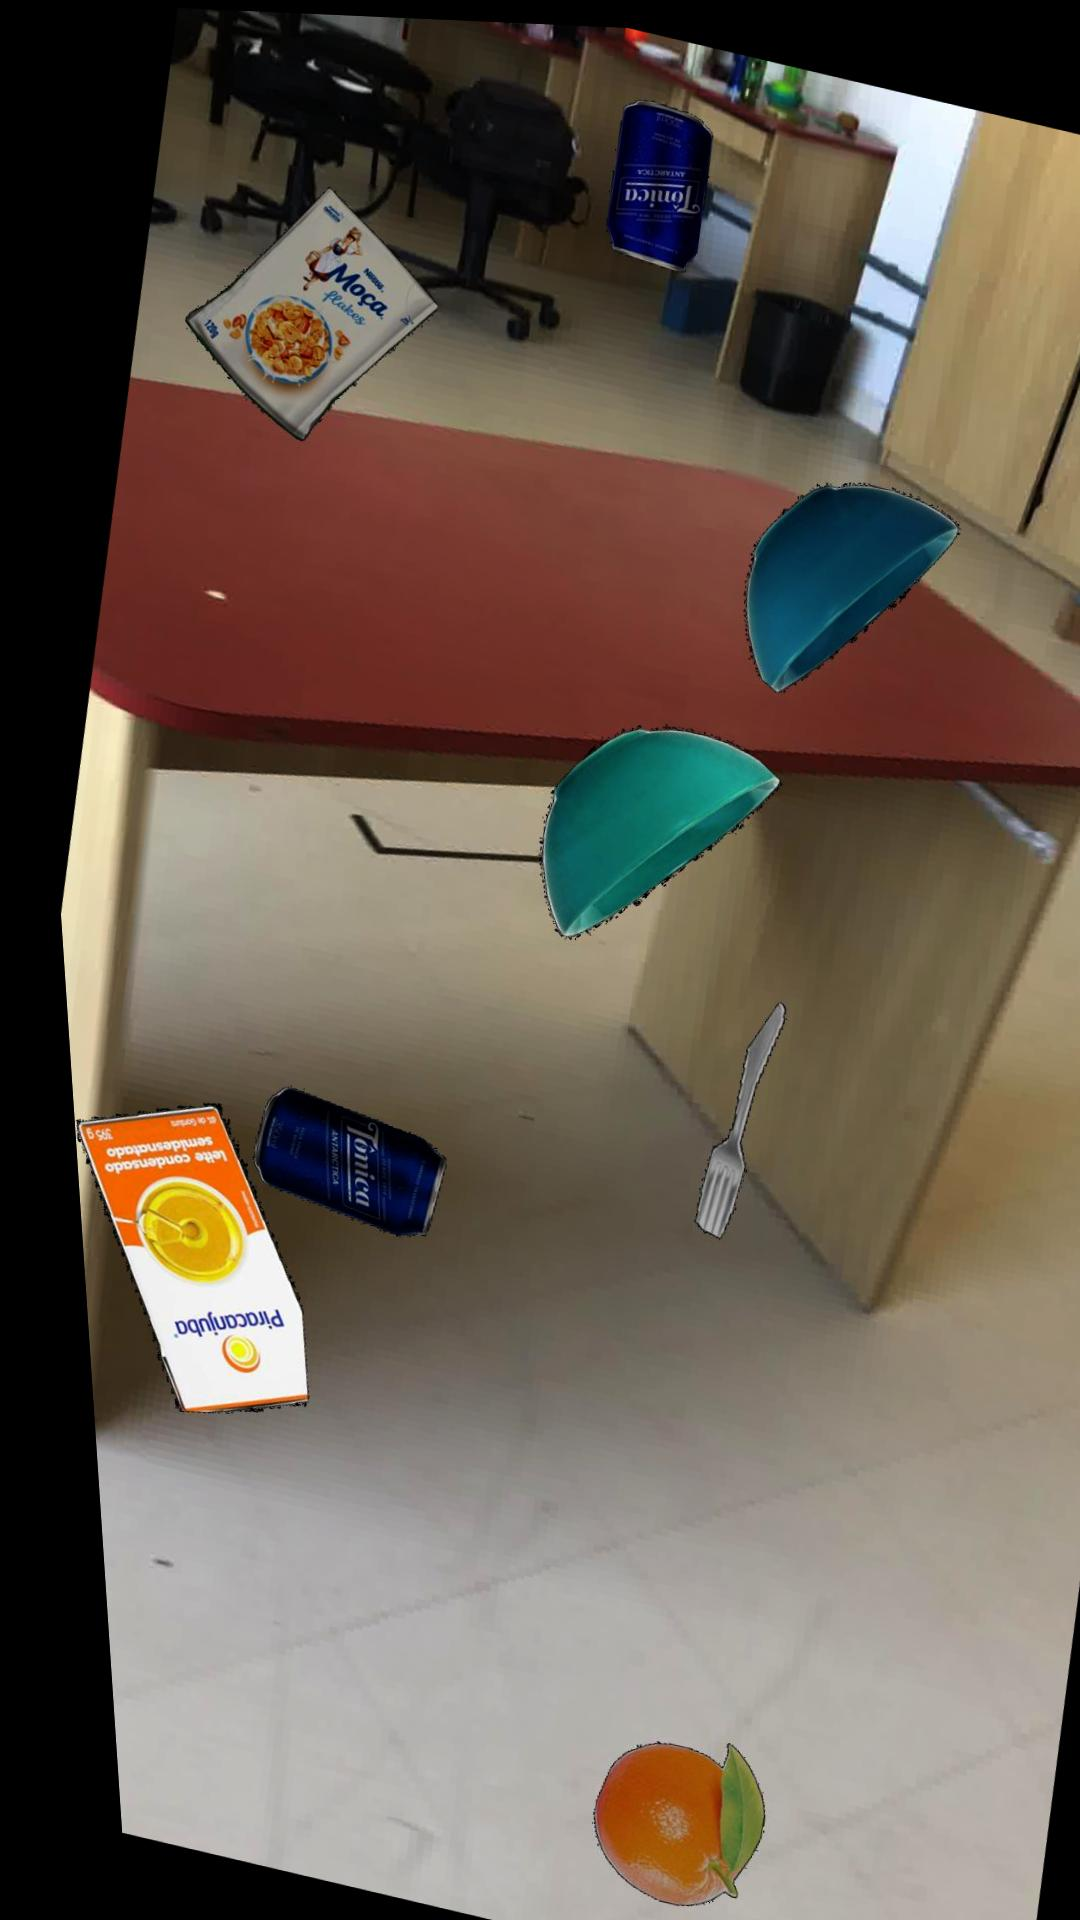bowl: (529, 720, 771, 930), (738, 473, 953, 684)
corn flakes: (182, 182, 435, 436)
fork: (678, 993, 773, 1232)
orange: (568, 1734, 741, 1899)
tonic: (237, 1083, 431, 1232), (604, 91, 712, 264)
